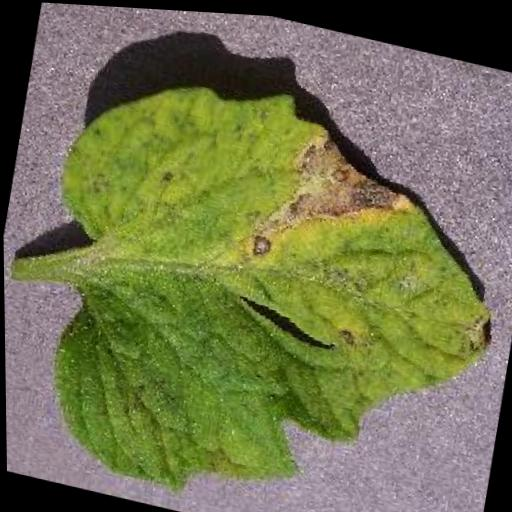Septoria: (8, 41, 512, 512)
